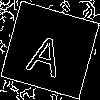A: (25, 25, 70, 79)
